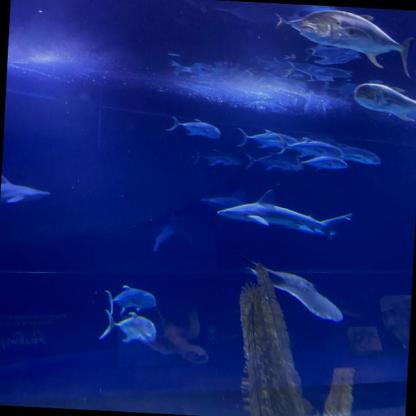fish: (296, 8, 415, 79), (352, 82, 416, 123), (100, 310, 158, 344), (105, 284, 157, 315), (276, 134, 343, 158), (238, 127, 301, 151), (323, 142, 382, 166), (166, 115, 222, 139), (273, 13, 337, 34), (247, 150, 304, 172), (194, 147, 242, 168), (296, 155, 350, 172)
shark: (216, 186, 355, 242), (200, 187, 282, 215), (0, 171, 53, 207), (153, 211, 192, 253)
stingray: (241, 268, 346, 323)
